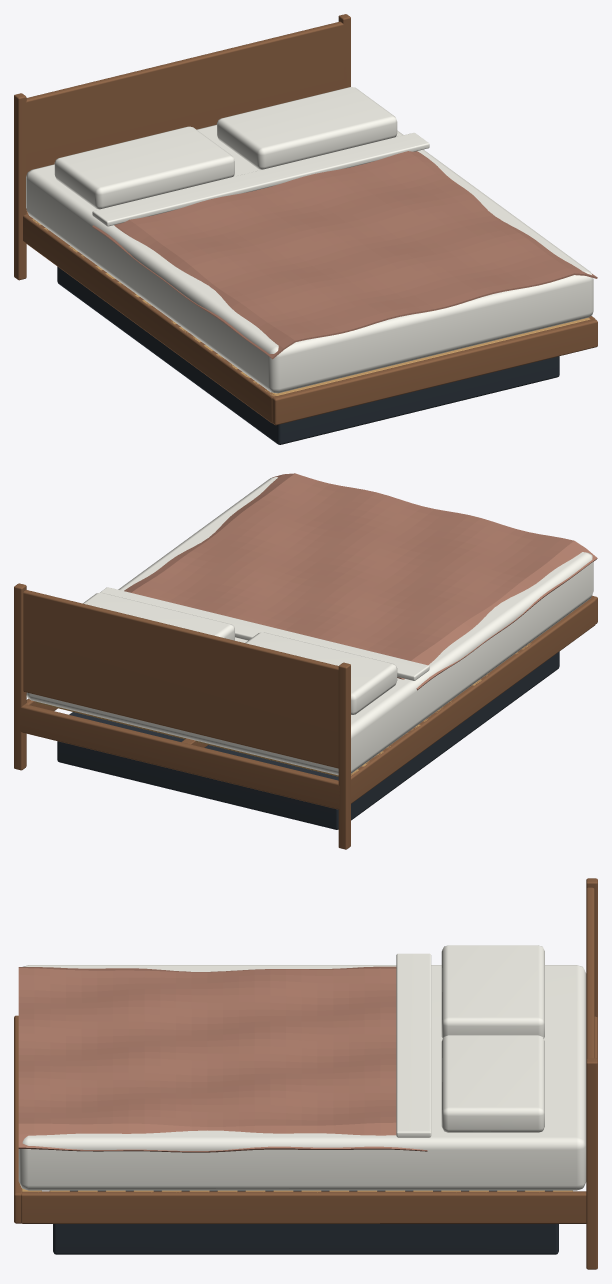
The model's file is apartment-queen-platform.glb.
3 views of the same model, one above another, from view 1: azimuth 30°, elevation 25°; view 2: azimuth 150°, elevation 25°; view 3: azimuth 270°, elevation 25° (orthographic). The views are drawn at different scales.
Visible parts, largest first — view 1: apartment-queen-platform authored assembly; view 2: apartment-queen-platform authored assembly; view 3: apartment-queen-platform authored assembly.
Part boxes in pixels (box(x1,y1,x2,y2)): apartment-queen-platform authored assembly: box(14, 14, 597, 444); apartment-queen-platform authored assembly: box(14, 473, 597, 849); apartment-queen-platform authored assembly: box(14, 878, 597, 1269).
Size of the model in its own units: 1.56 by 0.82 by 2.09.
